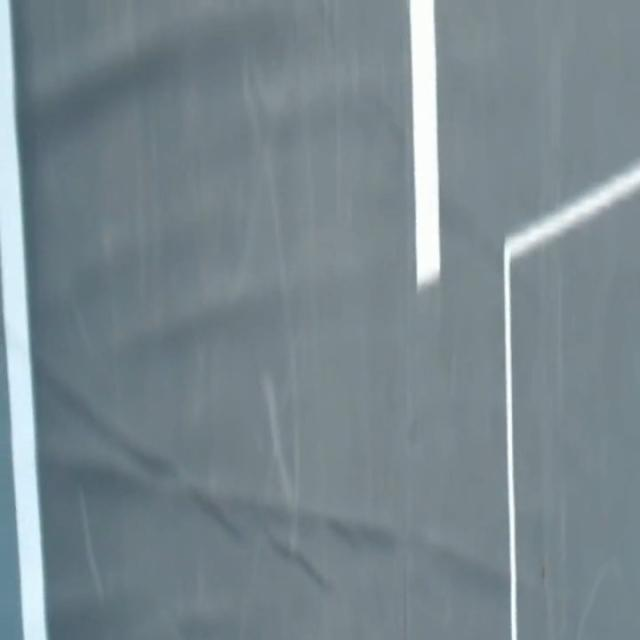center: (409, 0, 440, 289)
